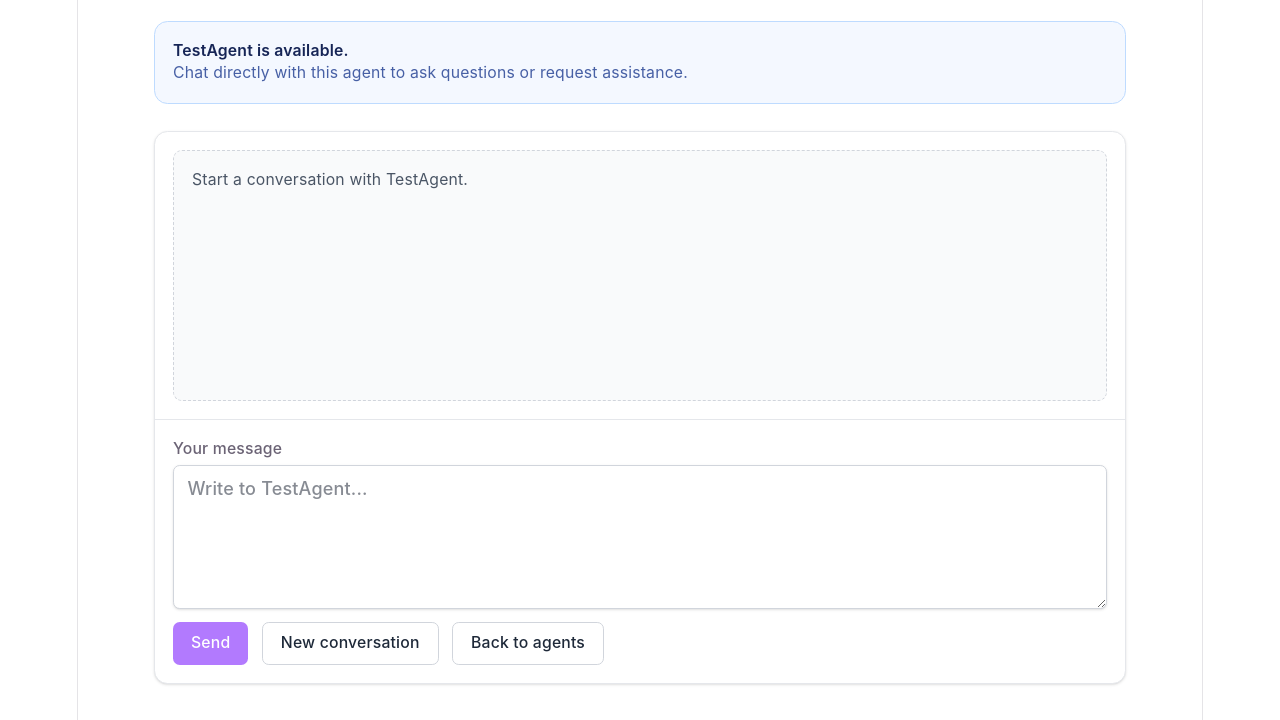
Test case: AgentChatPage › resets the conversation when "New conversation" button is clicked
(page scrolled)
Type "First message" into the text box labelled "Your message".
click(640, 537); type("First message")  # box [173, 465, 1107, 609]
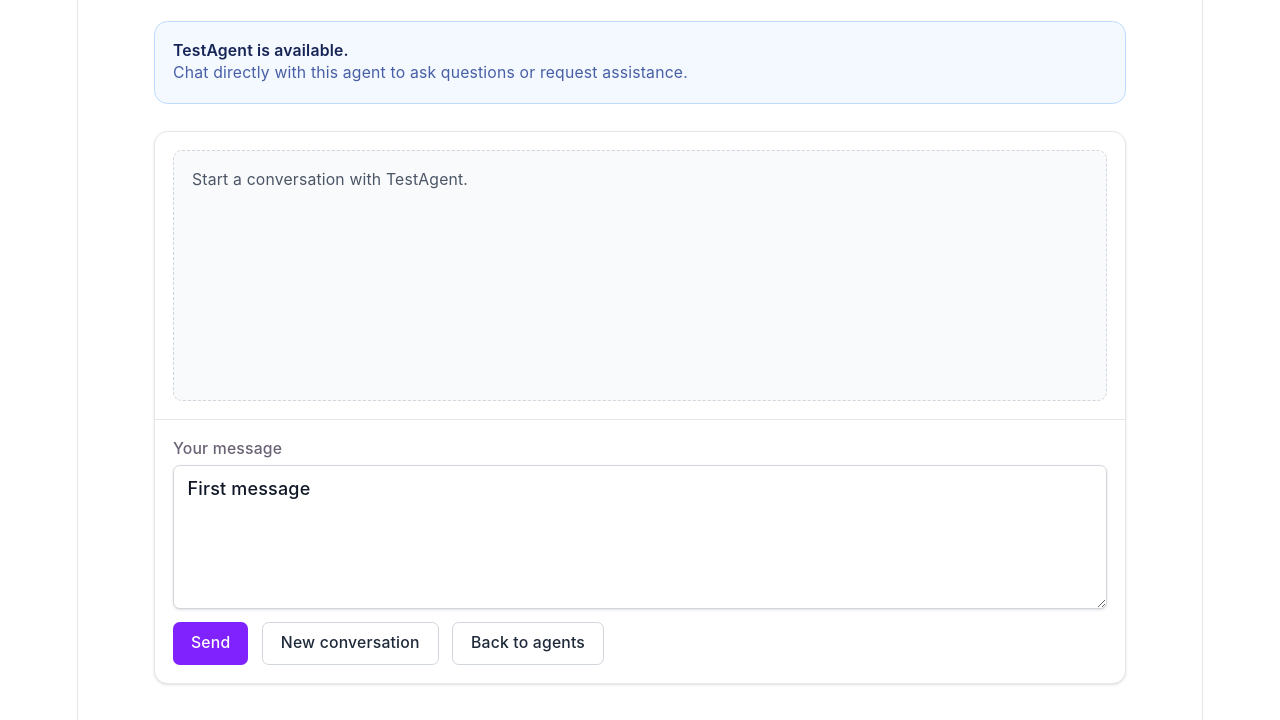
Click the button "Send".
click(211, 643)  # box [173, 622, 248, 665]
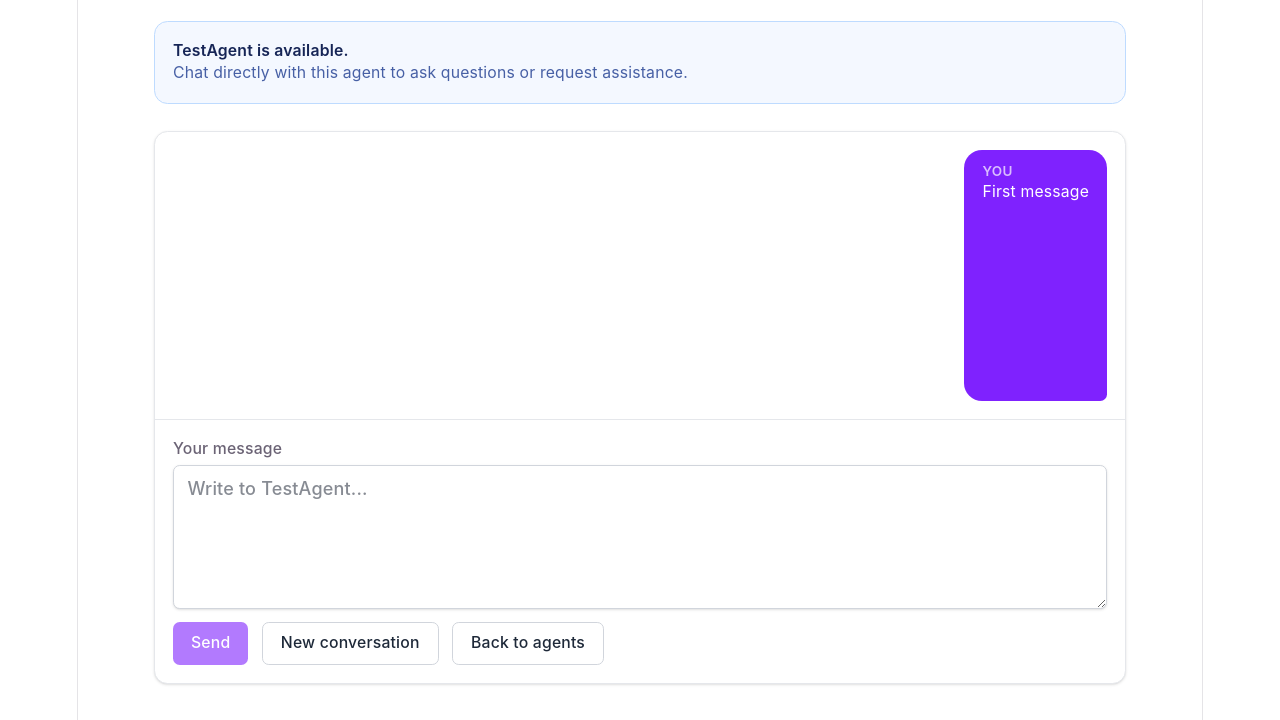
Expected: the text "First message" is shown, [982, 181, 1089, 204]
Click the button "New conversation".
click(350, 643)  # box [262, 622, 439, 665]
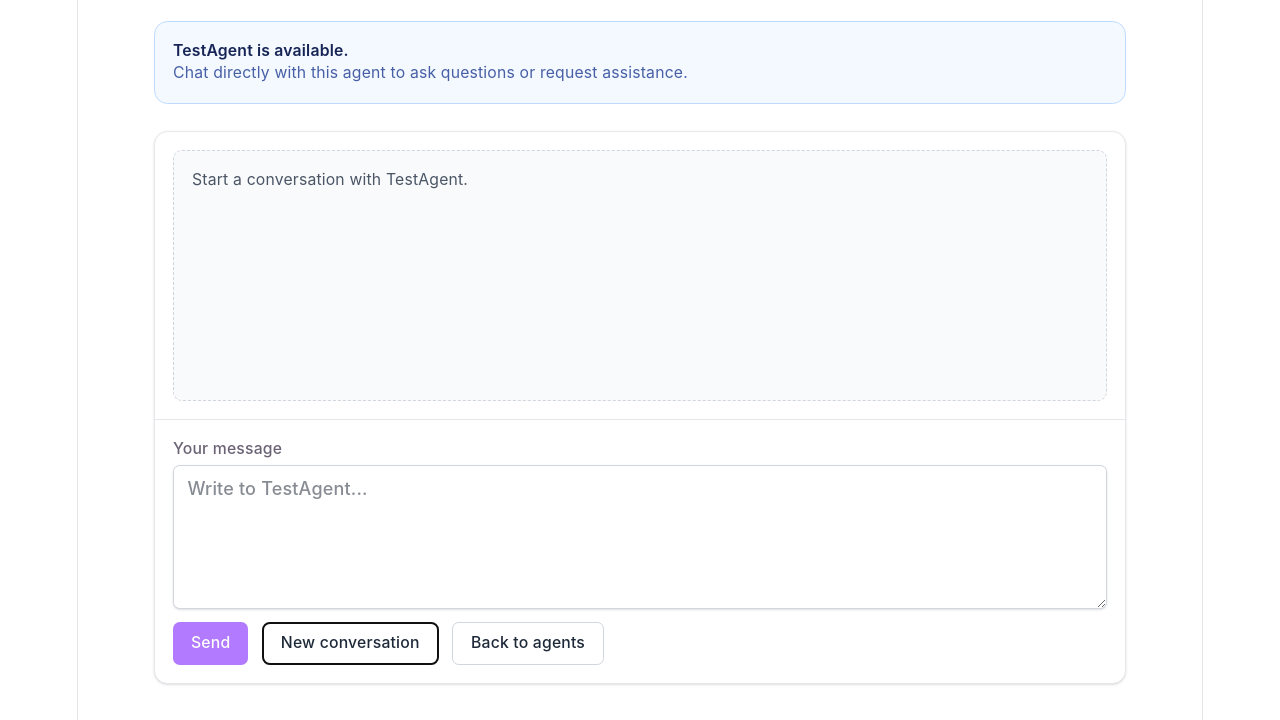
Expected: the text box labelled "Your message" is empty, [173, 465, 1107, 609]
Expected: the text "First message" is gone
